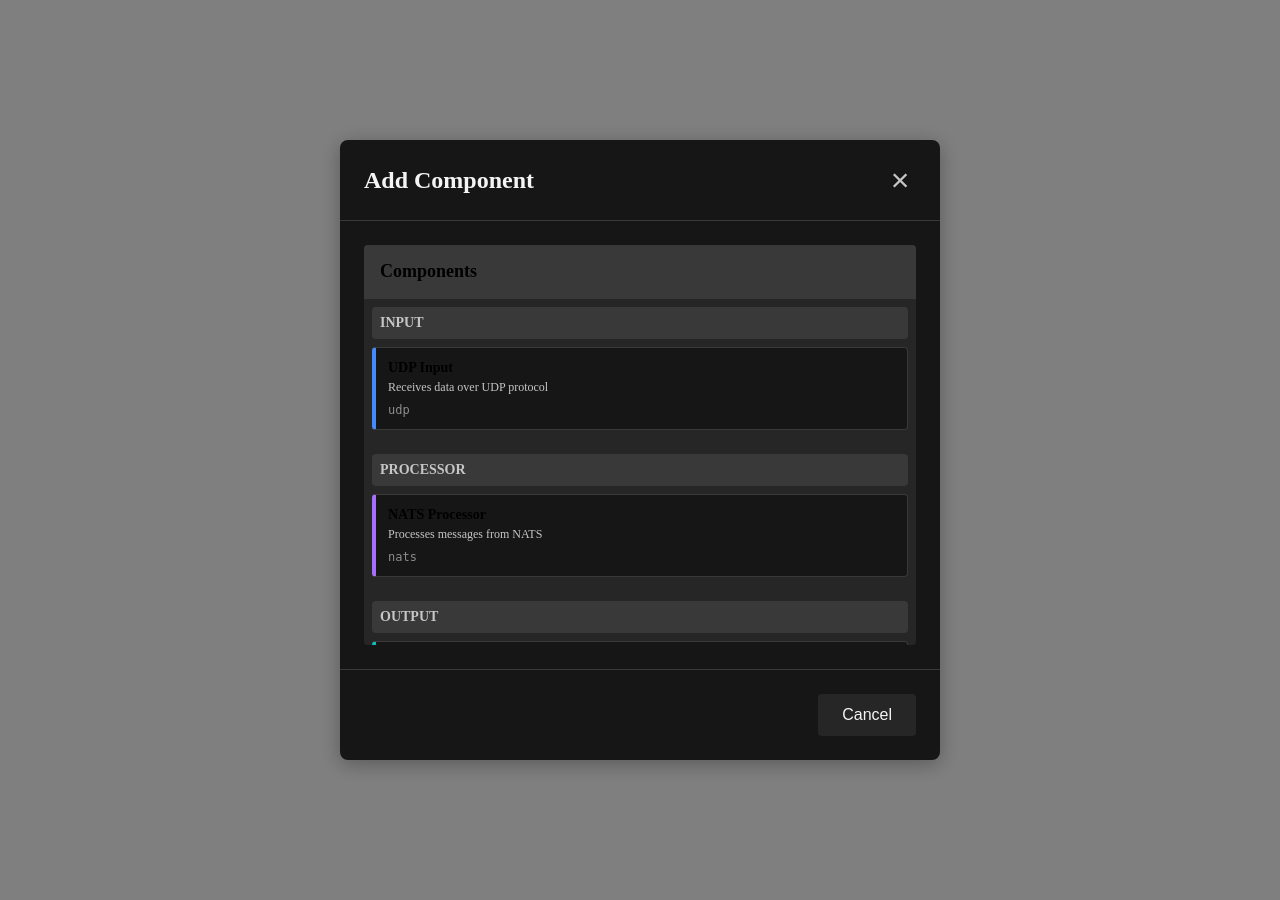
it: AddComponentModal › Component Type Selection › should show component-specific config fields when type selected
Double-click the button "UDP Input Receives data over UDP protocol udp": (420, 368) [372,347,908,430]
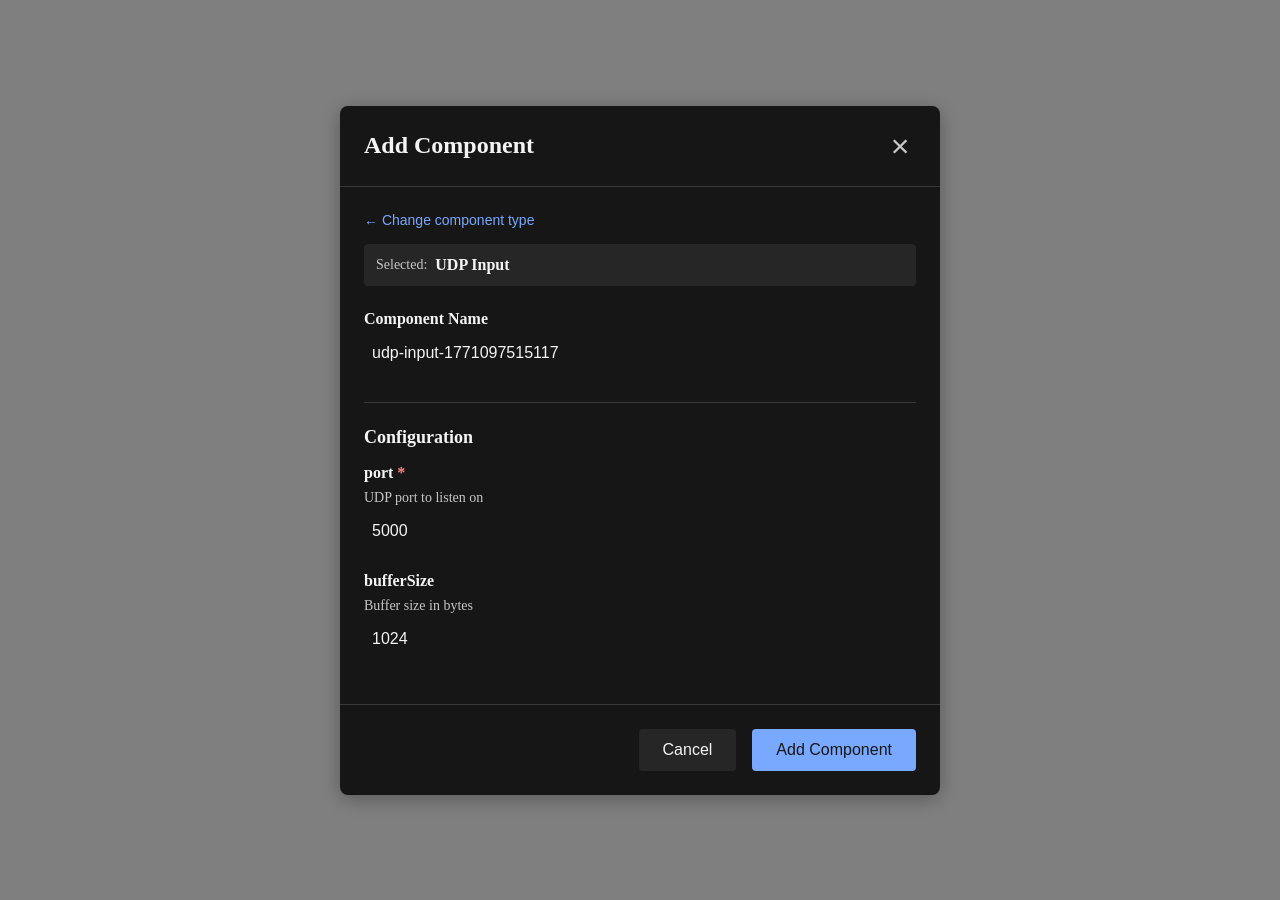
Now the number field named "config.port" is shown, box [364,514,932,548]
Now the number field named "config.bufferSize" is shown, box [364,622,932,656]
